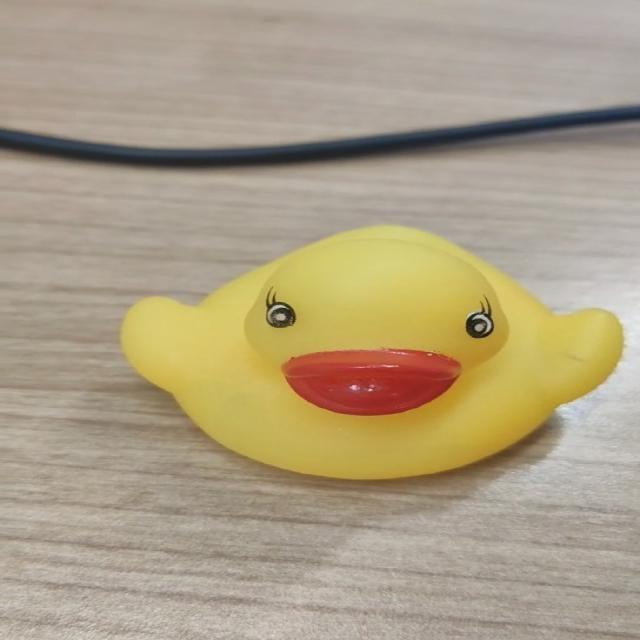rubber-duck: (120, 224, 621, 477)
